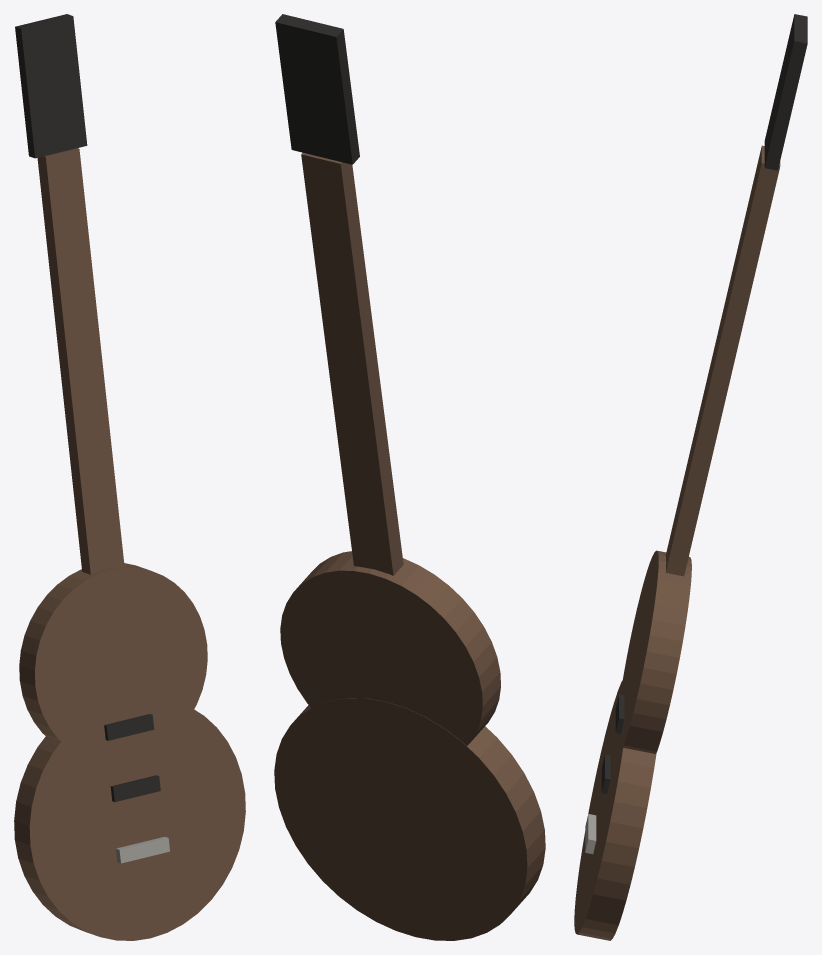
Rendered from guitar-dead.glb.
The picture shows the model from 3 angles, left to right: view 1: azimuth 30°, elevation 25°; view 2: azimuth 150°, elevation 25°; view 3: azimuth 270°, elevation 25°; orthographic projection. The views are drawn at different scales.
Parts seen in each view (by area): view 1: wood, plastic-dark, brushed; view 2: wood, plastic-dark; view 3: wood, plastic-dark.
Boxes of the visible parts, x1,y1,x2,y2 form: wood: [14, 148, 245, 940]; plastic-dark: [15, 14, 160, 801]; brushed: [116, 836, 169, 863]; wood: [274, 153, 545, 940]; plastic-dark: [275, 14, 359, 164]; wood: [574, 145, 780, 940]; plastic-dark: [601, 14, 807, 793].
Size of the model in its own units: 0.35 by 1.32 by 0.3094.
